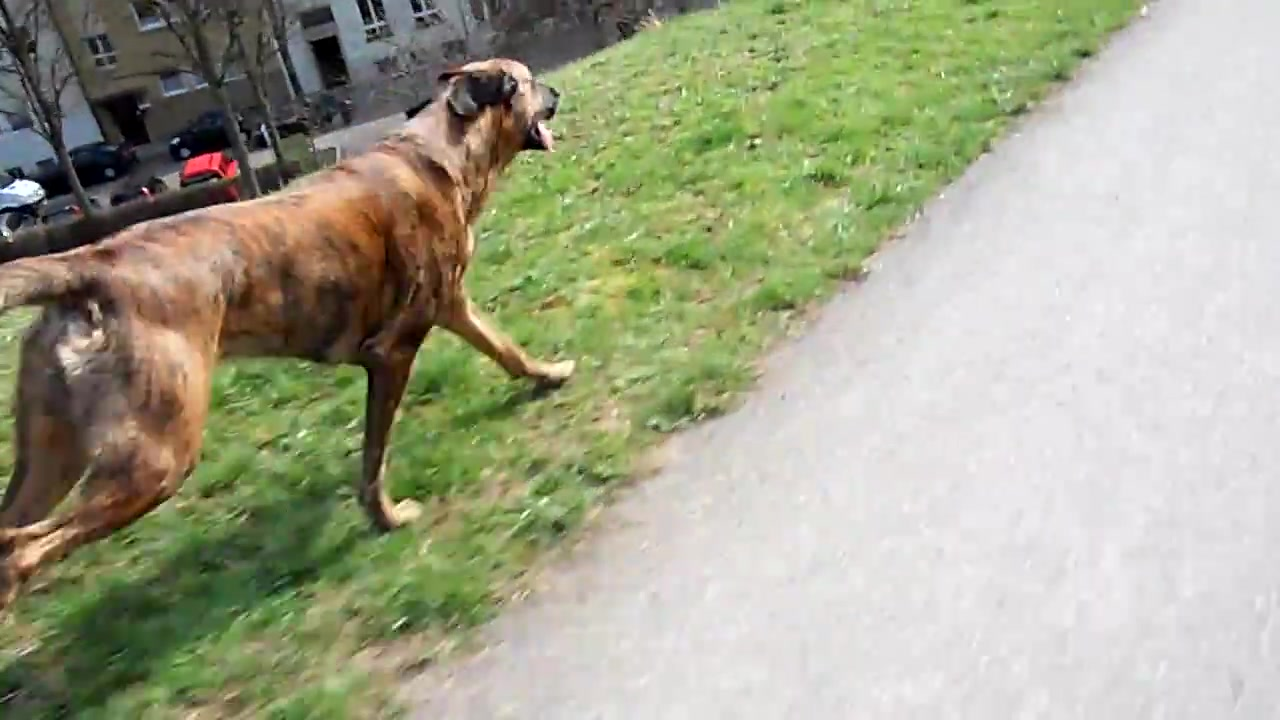dog: (1, 56, 576, 616)
